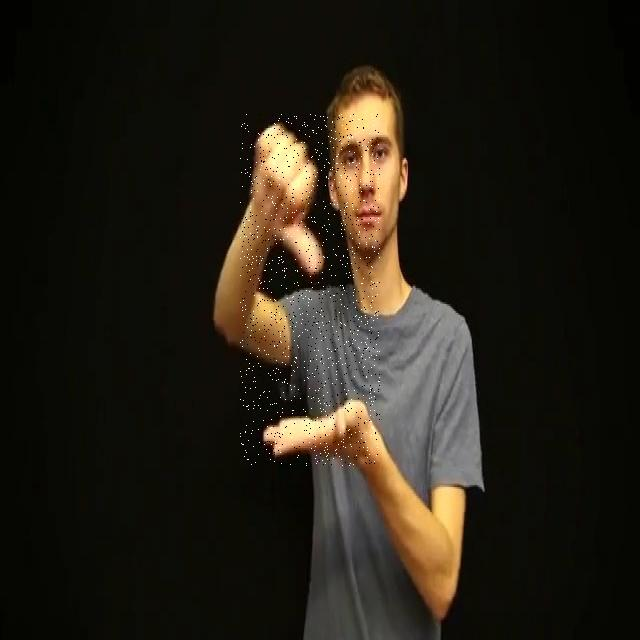sauce: (240, 114, 380, 466)
